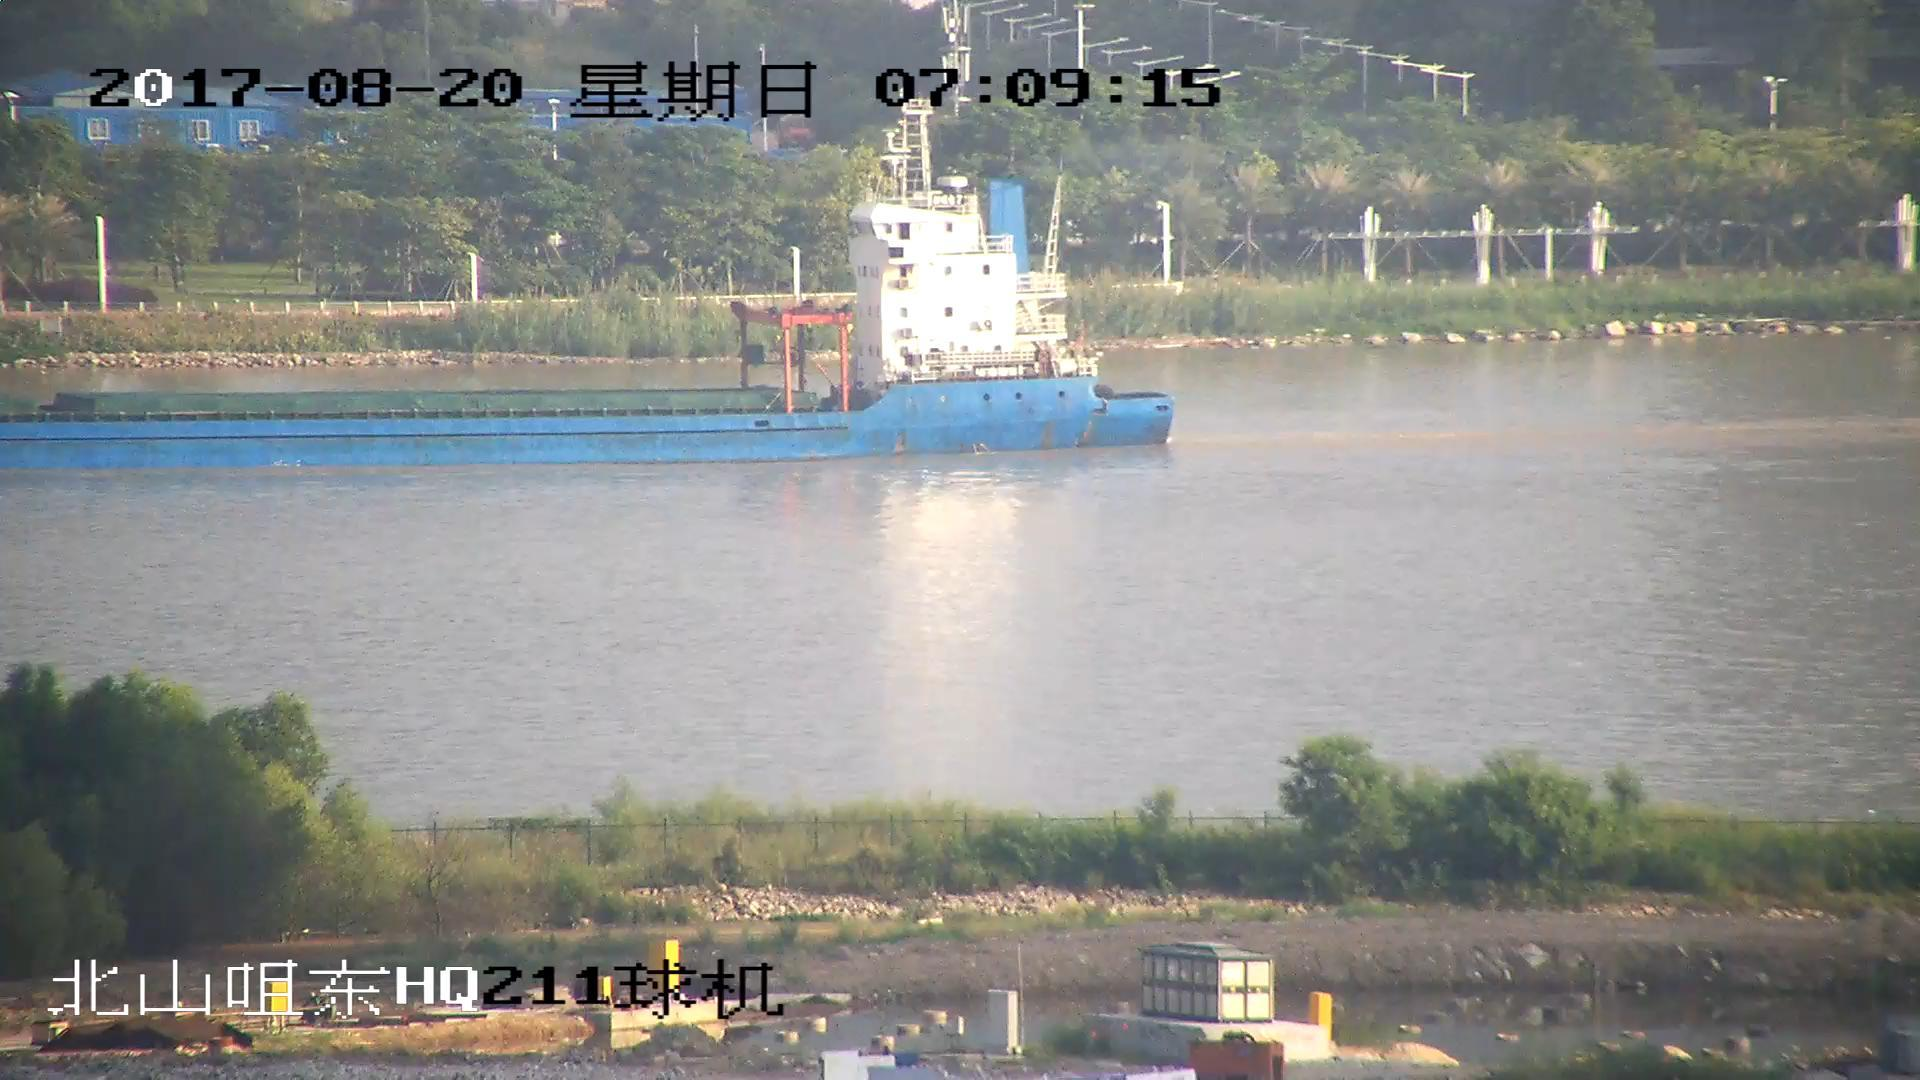Ship: (3, 129, 1174, 463)
